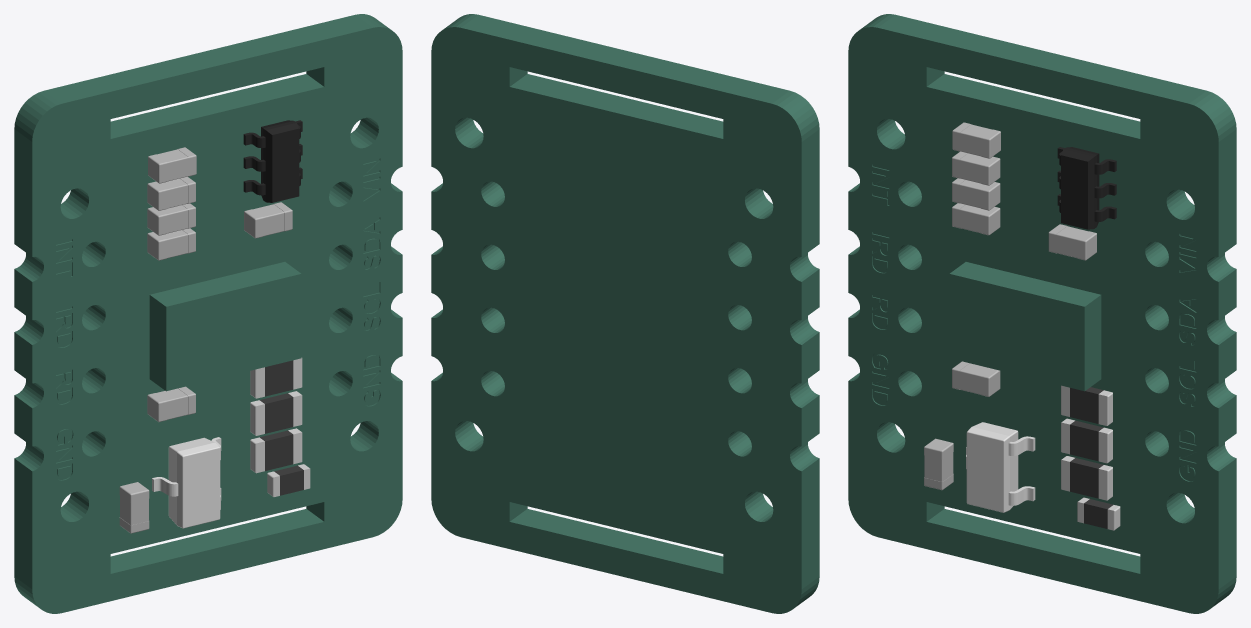
The model's file is max30102.glb.
3 views of the same model, side by side, from view 1: azimuth 30°, elevation 25°; view 2: azimuth 150°, elevation 25°; view 3: azimuth 330°, elevation 25° (orthographic).
Parts seen in each view (by area): view 1: =>[0:1:1:13], SOT23-3 v1:3, SOT-23-6 v1:5, ceramic_cap_0603 v1:33, ceramic_cap_0603 v1:35, ceramic_cap_0603 v1:34, ceramic_cap_0603 v1:29, ceramic_cap_0603 v1:32, ceramic_cap_0603 v1:30, ceramic_cap_0603 v1:31, Äåòàëü1:1_2, Äåòàëü1:1_3 (+2 smaller); view 2: =>[0:1:1:13]; view 3: =>[0:1:1:13], SOT23-3 v1:3, SOT-23-6 v1:5, ceramic_cap_0603 v1:33, ceramic_cap_0603 v1:35, ceramic_cap_0603 v1:34, ceramic_cap_0603 v1:29, ceramic_cap_0603 v1:32, ceramic_cap_0603 v1:31, ceramic_cap_0603 v1:30, Äåòàëü1:1_3, Äåòàëü1:1_2 (+2 smaller).
Boxes of the visible parts, x1,y1,x2,y2 form: =>[0:1:1:13]: [14, 14, 402, 613]; SOT23-3 v1:3: [152, 437, 221, 528]; SOT-23-6 v1:5: [243, 120, 302, 202]; ceramic_cap_0603 v1:33: [119, 482, 149, 533]; ceramic_cap_0603 v1:35: [244, 202, 292, 238]; ceramic_cap_0603 v1:34: [148, 147, 196, 183]; ceramic_cap_0603 v1:29: [147, 386, 195, 421]; ceramic_cap_0603 v1:32: [147, 176, 195, 210]; ceramic_cap_0603 v1:30: [147, 228, 195, 260]; ceramic_cap_0603 v1:31: [147, 203, 195, 235]; Äåòàëü1:1_2: [259, 393, 293, 433]; Äåòàëü1:1_3: [260, 430, 293, 470]; =>[0:1:1:13]: [431, 14, 819, 613]; =>[0:1:1:13]: [848, 14, 1236, 613]; SOT23-3 v1:3: [966, 422, 1035, 512]; SOT-23-6 v1:5: [1057, 147, 1116, 229]; ceramic_cap_0603 v1:33: [924, 438, 953, 490]; ceramic_cap_0603 v1:35: [1048, 224, 1096, 260]; ceramic_cap_0603 v1:34: [952, 122, 1000, 158]; ceramic_cap_0603 v1:29: [952, 361, 1000, 396]; ceramic_cap_0603 v1:32: [952, 151, 1000, 185]; ceramic_cap_0603 v1:31: [952, 178, 1000, 210]; ceramic_cap_0603 v1:30: [952, 203, 1000, 235]; Äåòàëü1:1_3: [1070, 458, 1103, 498]; Äåòàëü1:1_2: [1070, 420, 1103, 461].
Size of the model in its own units: 0.0156 by 0.0205 by 0.0025.
